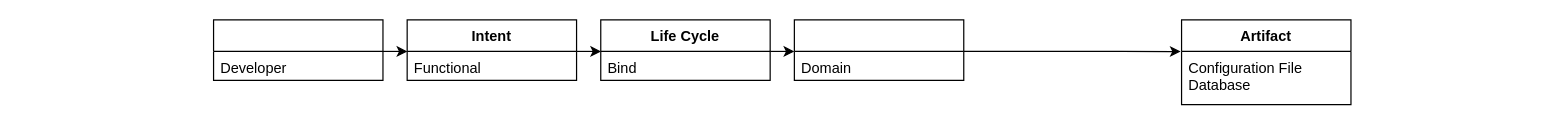
Image size: 1565x137. Some labels were removed from this diagram. Here are the shapes that lost their labels. From the top down, the box of each, then its label:
(212, 19, 383, 80): Stakeholder
(793, 19, 964, 80): Type
